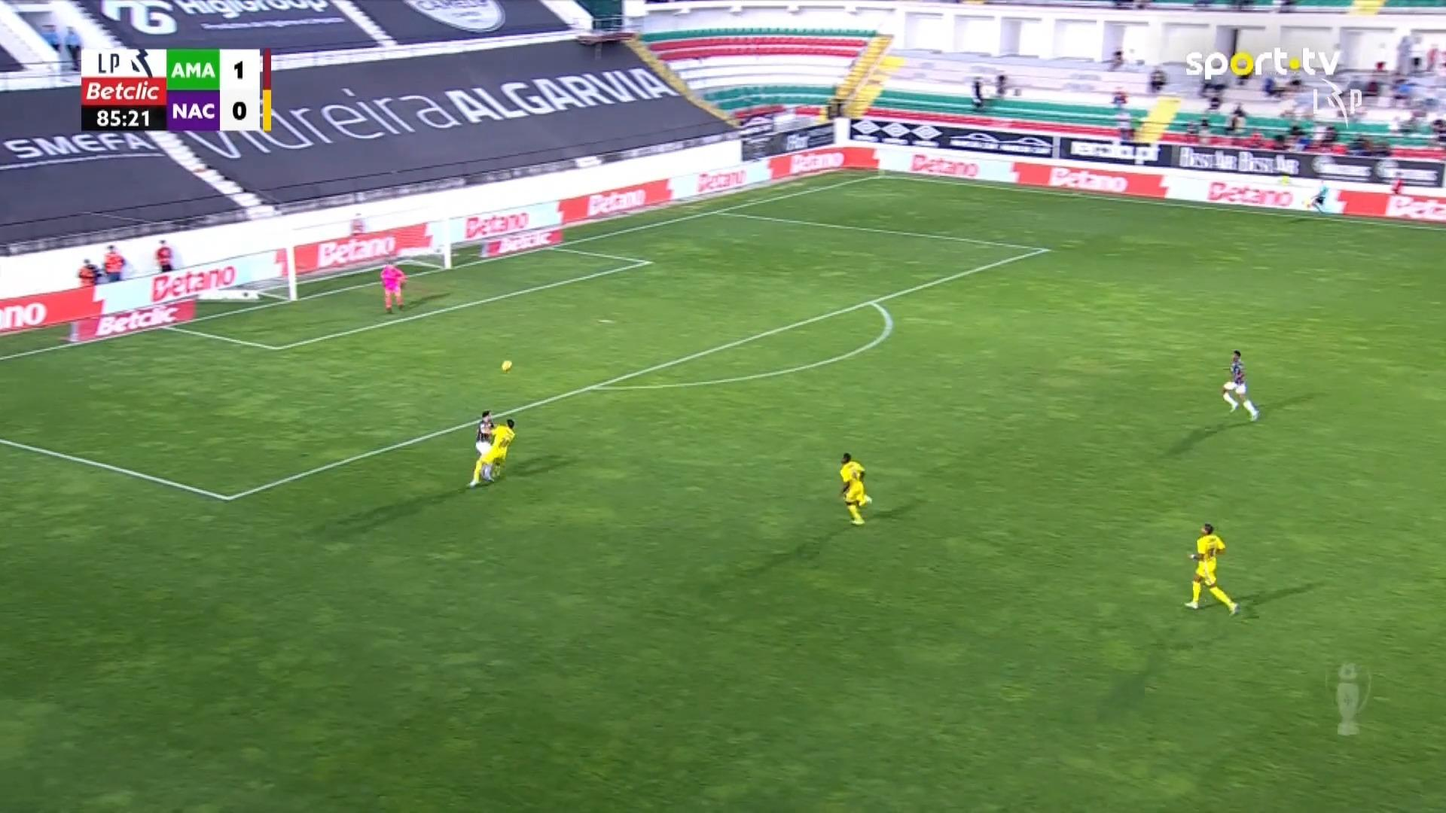ball: (501, 359, 511, 371)
goalkeeper: (380, 260, 406, 314)
player: (1183, 522, 1240, 617), (1221, 349, 1259, 422), (837, 451, 872, 525), (477, 417, 515, 483), (475, 410, 494, 456)
referee: (1303, 181, 1329, 215)
